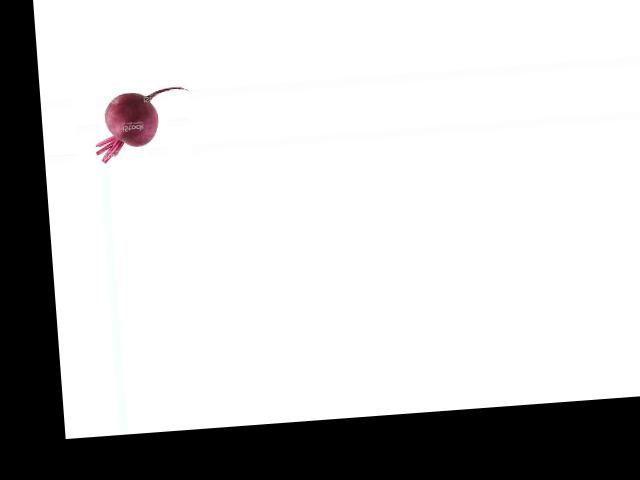beet: (91, 86, 194, 163)
